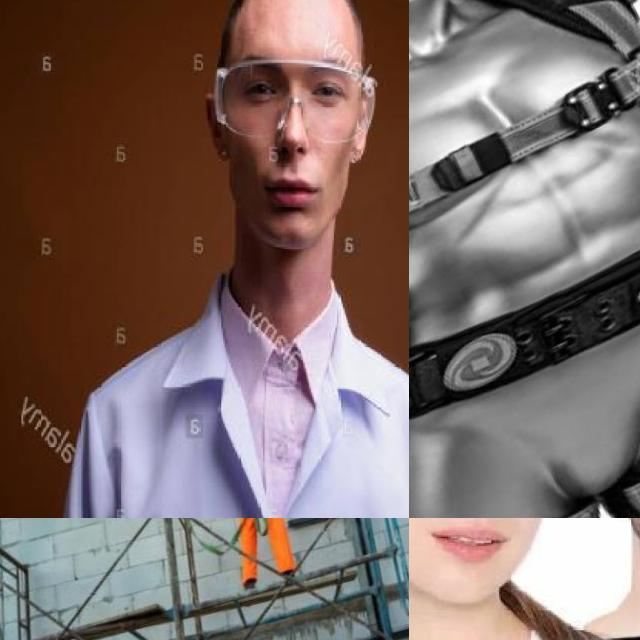Harness: (409, 253, 640, 420)
face_nomask: (222, 54, 356, 227), (409, 518, 569, 585)
glasses: (212, 56, 373, 142)
head_nohelmet: (224, 0, 358, 20)
person: (61, 0, 409, 518)
